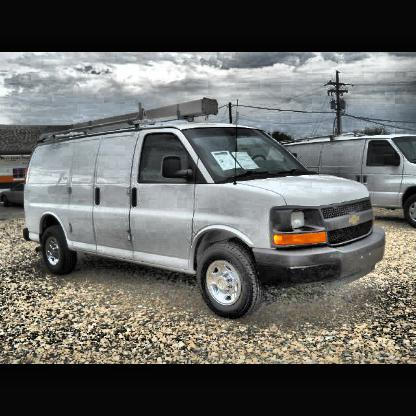Chevrolet Express Cargo Van 2007: (24, 100, 386, 321)
